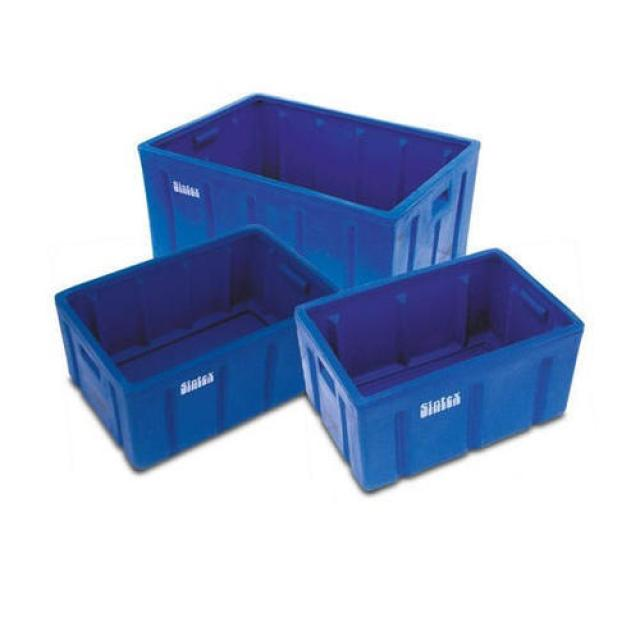basket: (35, 184, 371, 481), (276, 212, 614, 501), (121, 78, 485, 306)
